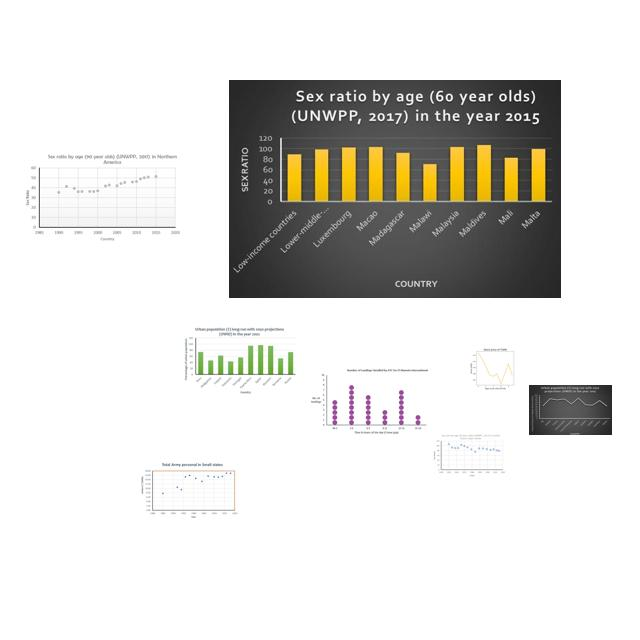Graph: (229, 80, 561, 298), (22, 149, 182, 243), (307, 366, 429, 437), (182, 325, 297, 395), (139, 461, 239, 520), (529, 385, 612, 435), (432, 433, 506, 477), (465, 346, 524, 390)
